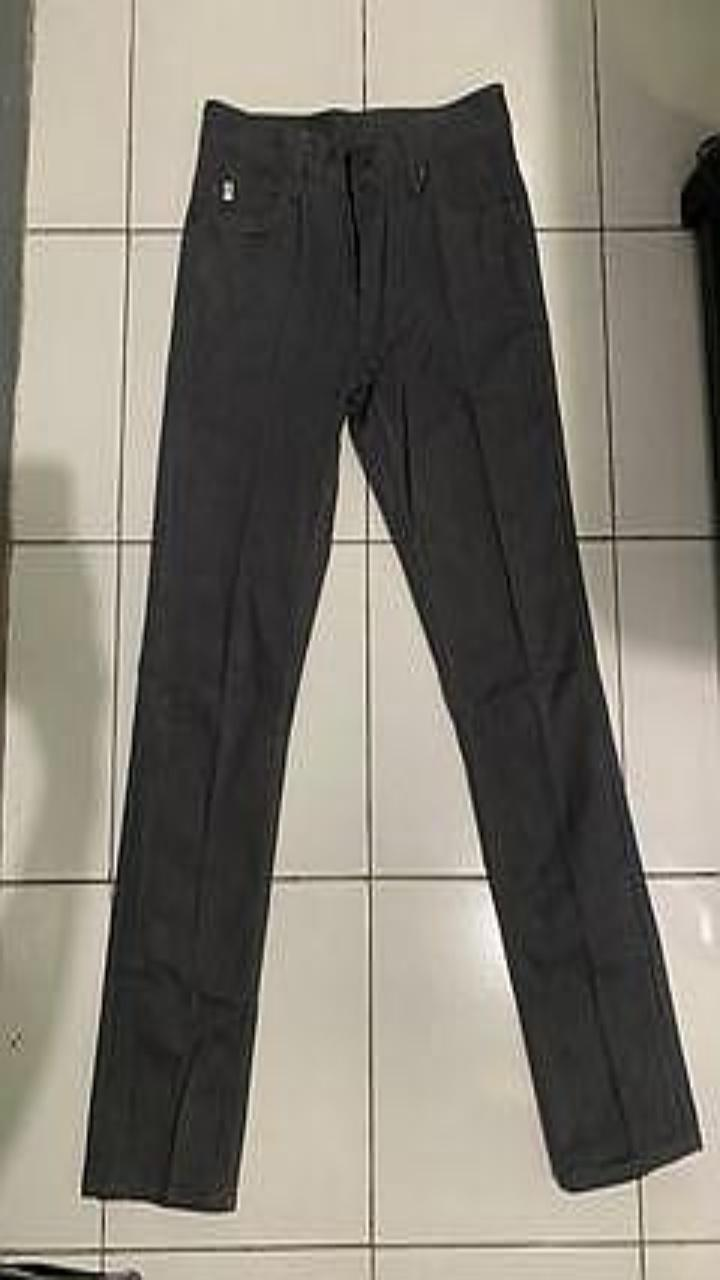Jeans: (82, 82, 700, 1210)
